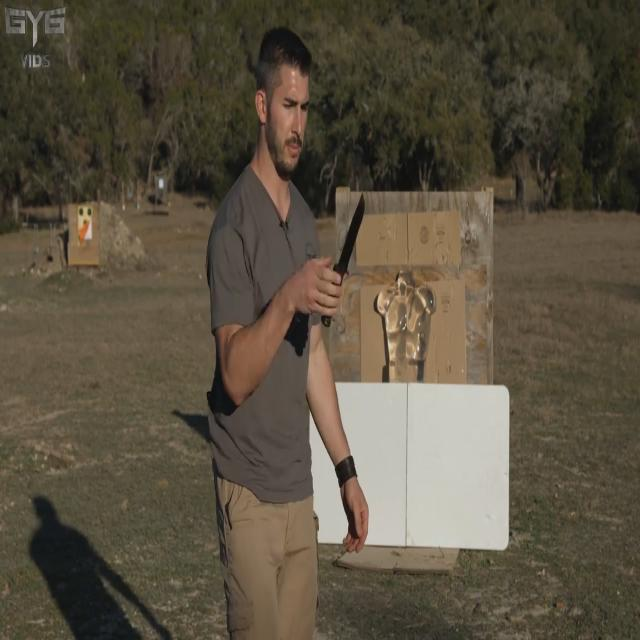knife: (320, 190, 369, 333)
